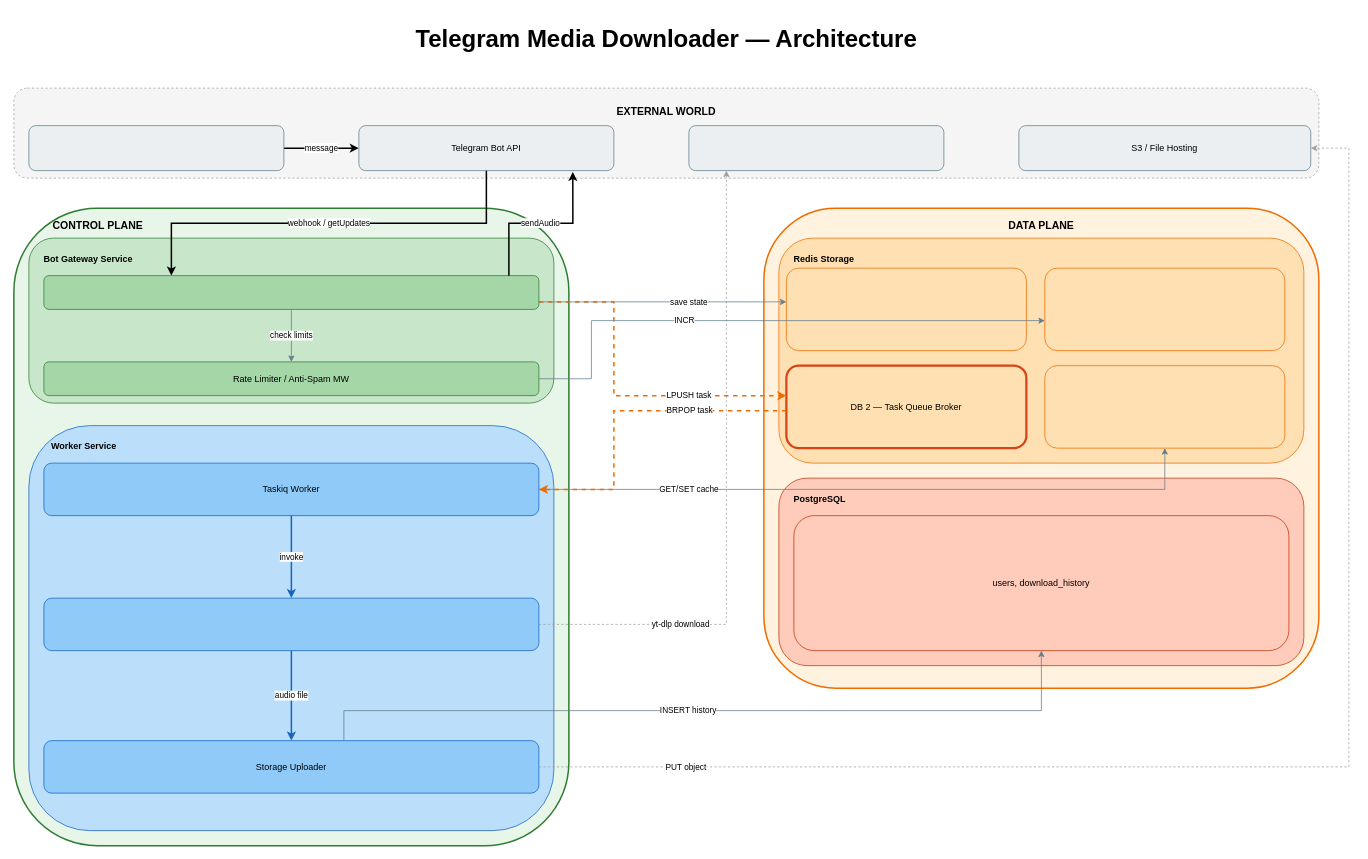
The diagram is 1368 pixels wide and 859 high, and some of its shapes have lost their labels. Here are the shapes that lost their labels. From the top down, the centre of each, then its label:
At (156,148): "Telegram User".
At (816,148): "YouTube".
At (291,292): "Aiogram 3 Bot App".
At (906,309): "DB 0 — FSM Storage".
At (1164,309): "DB 1 — Rate Limit Counter".
At (1164,406): "DB 3 — Download Cache".
At (291,624): "Downloader Engine".
